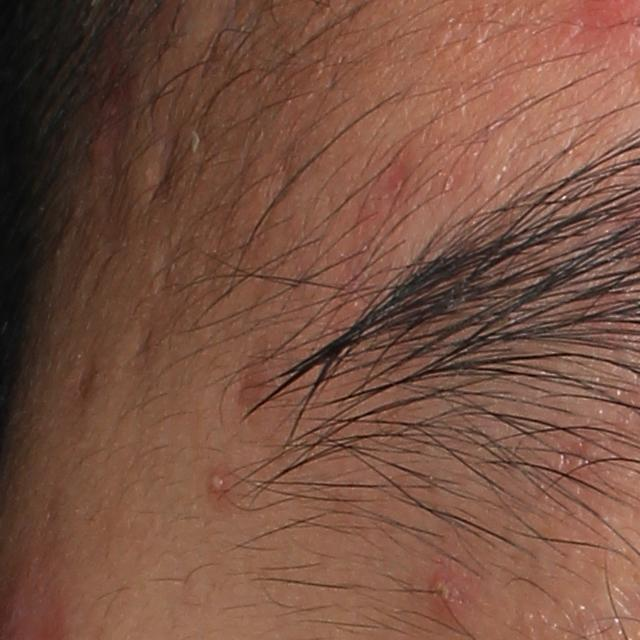atrophic_scar: (148, 235, 181, 300), (125, 319, 161, 376), (76, 353, 102, 396)
papule: (420, 567, 470, 610)
